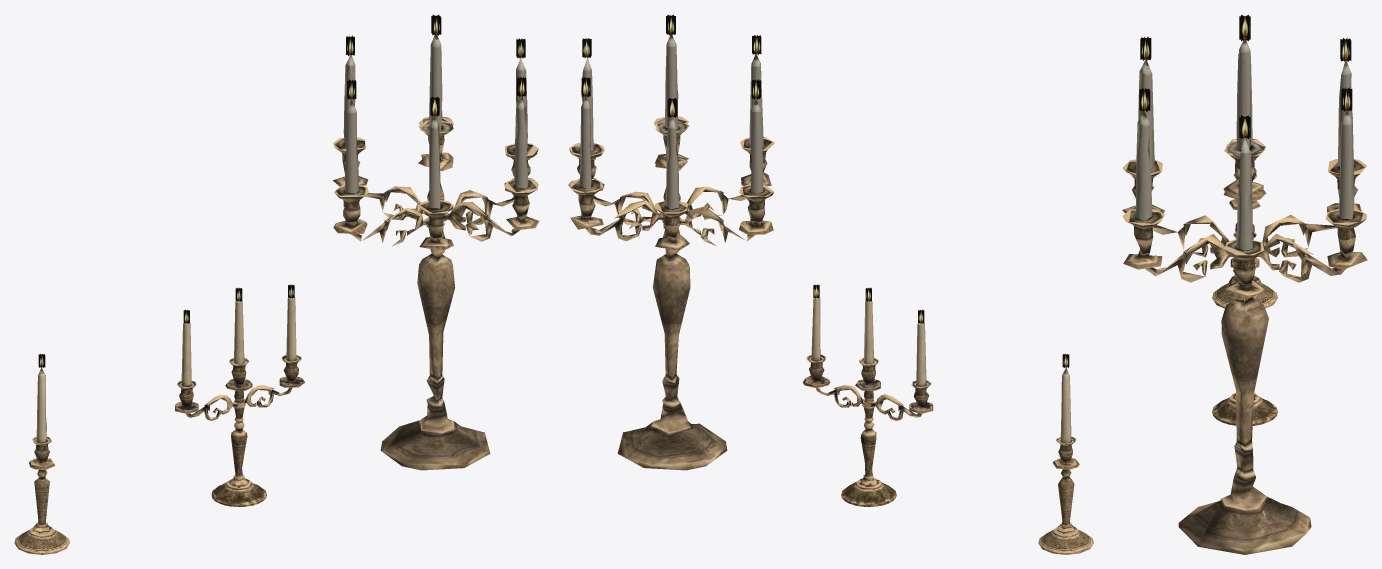
The model's file is brass_candleholders.glb.
3 views of the same model, side by side, from view 1: azimuth 30°, elevation 25°; view 2: azimuth 150°, elevation 25°; view 3: azimuth 270°, elevation 25° (orthographic). The views are drawn at different scales.
Visible parts, largest first — view 1: brass_candleholder_03, brass_candleholder_02, brass_candleholder_01; view 2: brass_candleholder_03, brass_candleholder_02, brass_candleholder_01; view 3: brass_candleholder_03, brass_candleholder_02, brass_candleholder_01.
Part boxes in pixels (x1,y1,x2,y2): brass_candleholder_03: (38,15,539,470); brass_candleholder_02: (175,297,304,506); brass_candleholder_01: (14,368,69,554); brass_candleholder_03: (568,14,1069,470); brass_candleholder_02: (803,297,933,506); brass_candleholder_01: (1038,368,1093,554); brass_candleholder_03: (1122,15,1367,554); brass_candleholder_02: (1212,232,1277,425); brass_candleholder_01: (1212,173,1277,308).
Bounding box in the file's own units: 1.05 × 0.8353 × 0.3645.
Materials: 5 (5 with a texture image).
